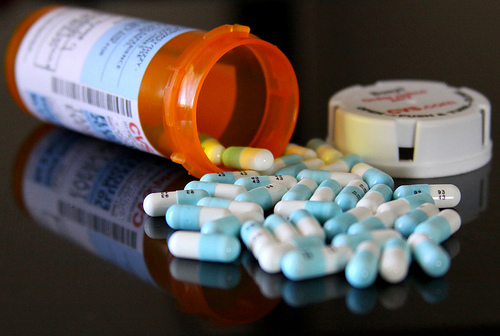pill bottle: (4, 4, 300, 181)
